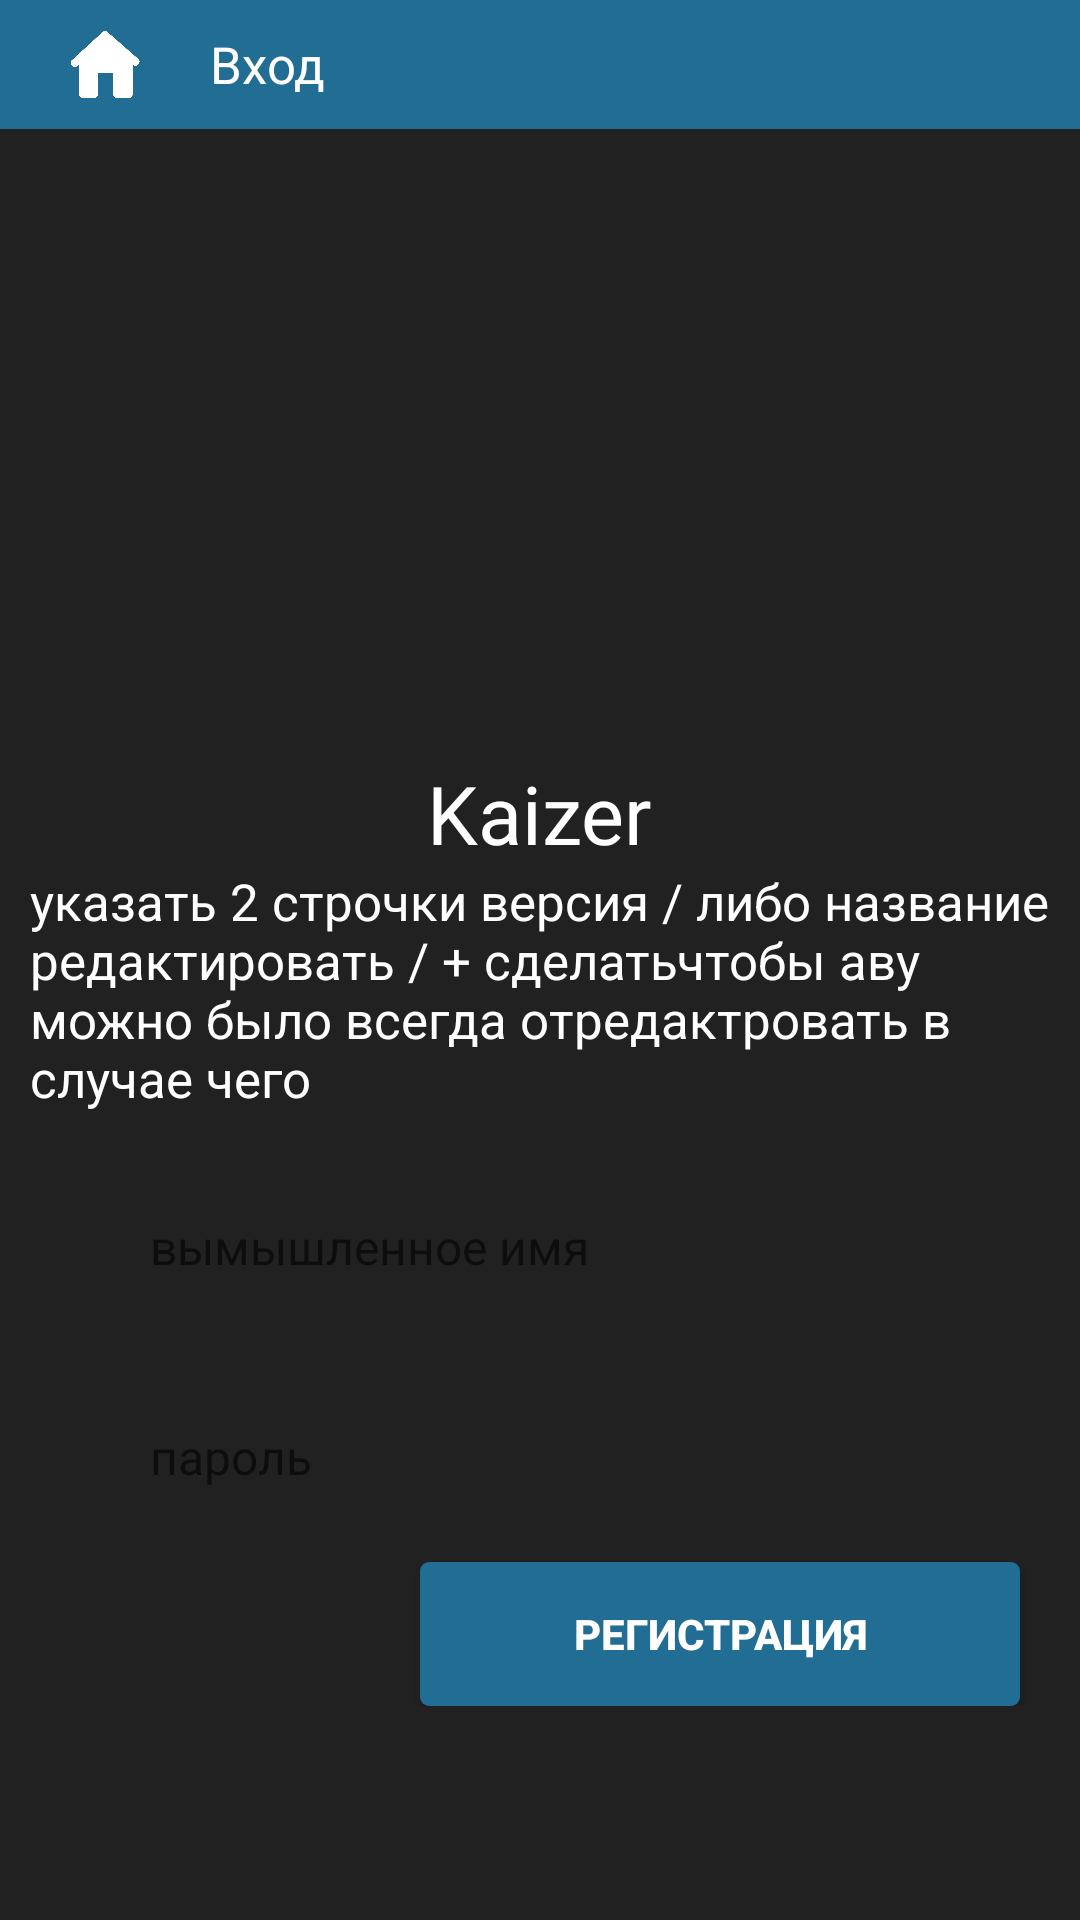

Icons on this 1080px×1920px Android screen, each with the point to tap as (x=x, y=y):
house: (x=105, y=64)
